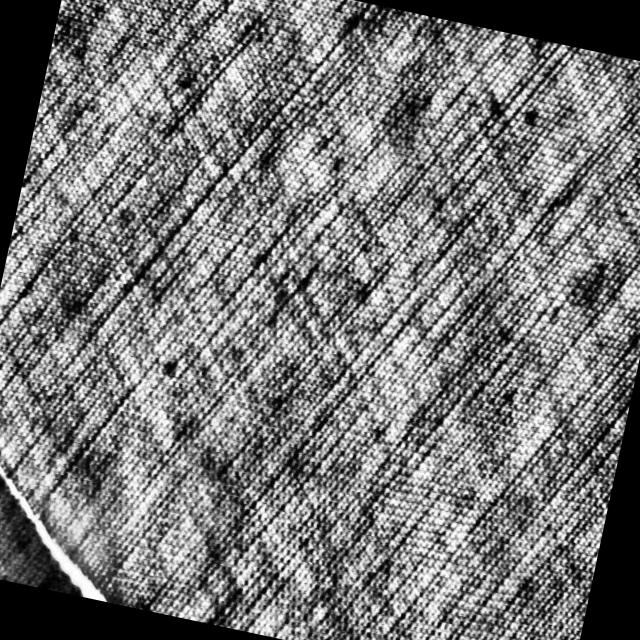gray stitch: (0, 411, 142, 600)
